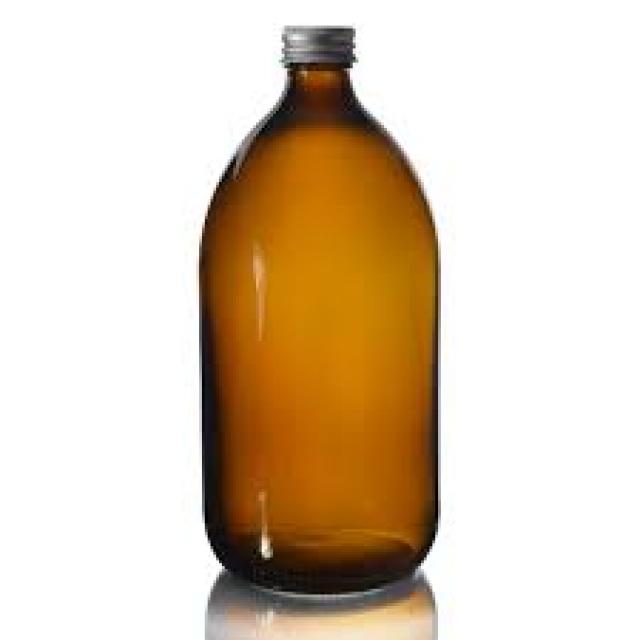Glass: (199, 21, 442, 600)
